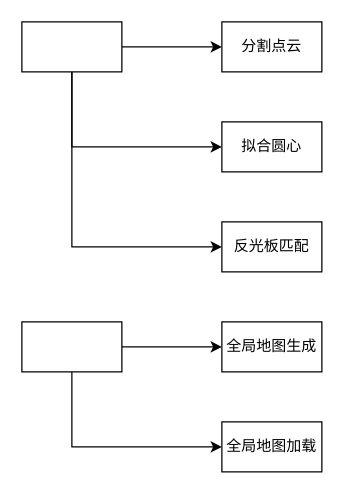
The diagram is 344 pixels wide and 494 high, and some of its shapes have lost their labels. Here are the shapes that lost their labels. From the top down, the box of each, then its label:
(21, 21, 122, 72): 反光板类
(21, 321, 122, 372): 地图类
